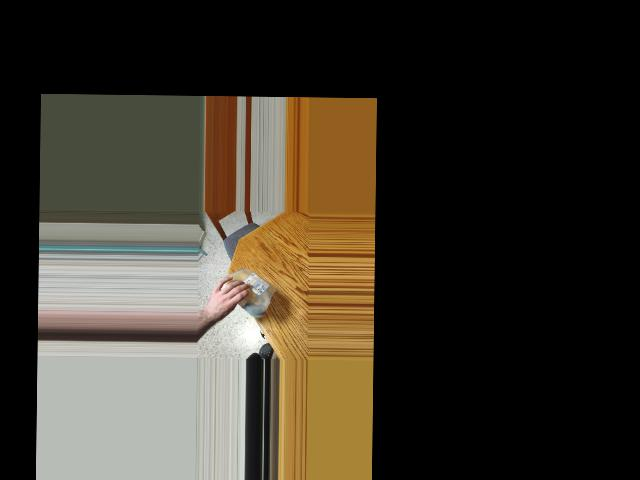cheese: (217, 264, 277, 311)
